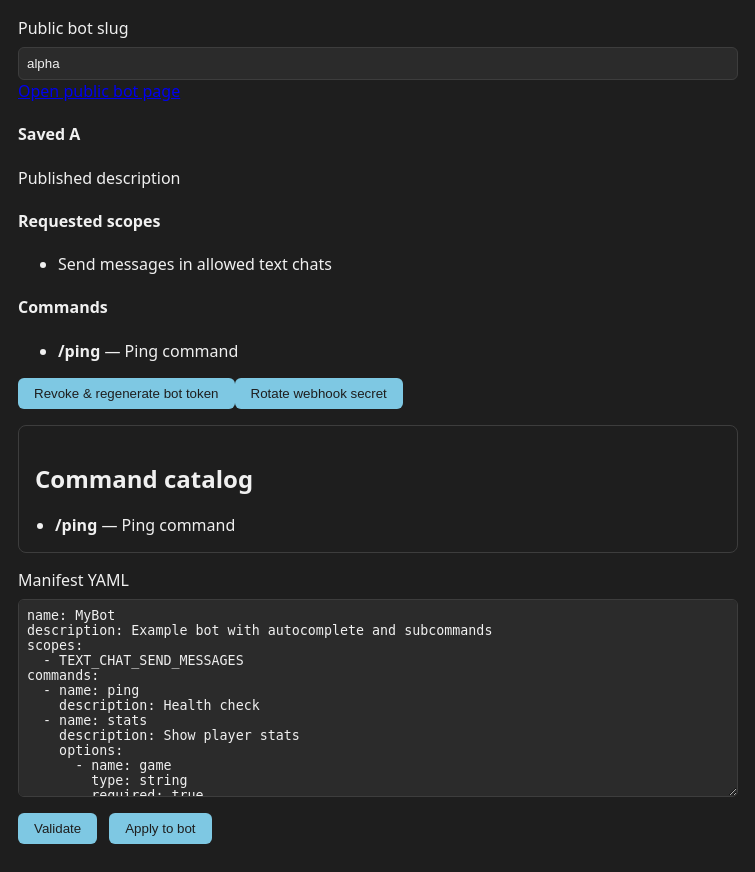
Scenario: saved public bot preview › ignores a late manifest detail refresh after selection
This screenshot has width=755, height=872.
(page scrolled)
Expected: the text "/ping" below "Commands" is shown, [58,340,100,362]
Click the button "Apply to bot": (160, 829) [109,813,212,844]
(page scrolled)
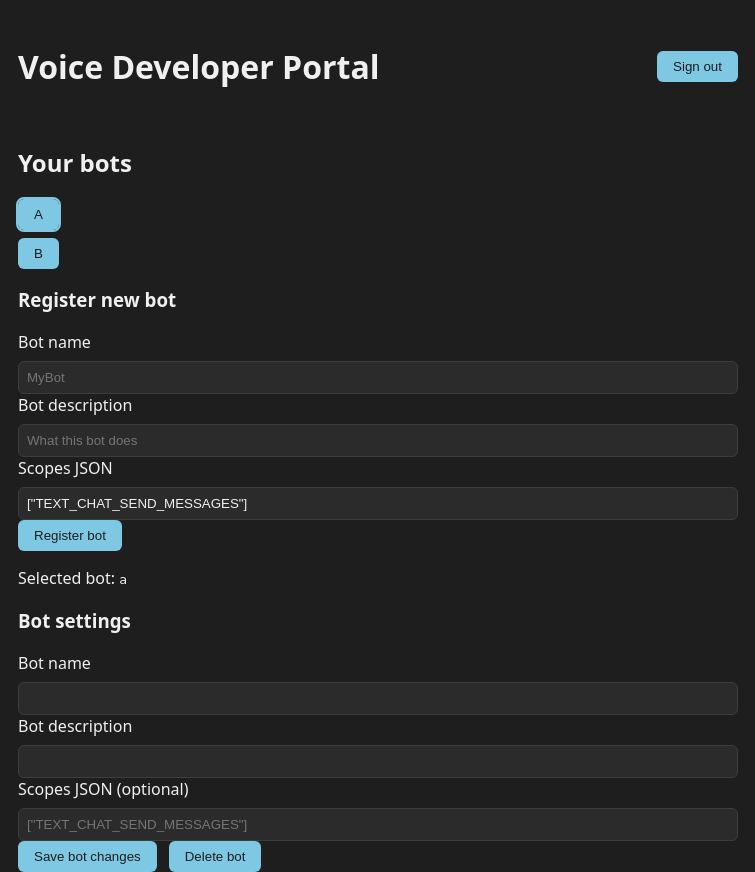
Click the button "B": (38, 253) [18,238,59,269]
(page scrolled)
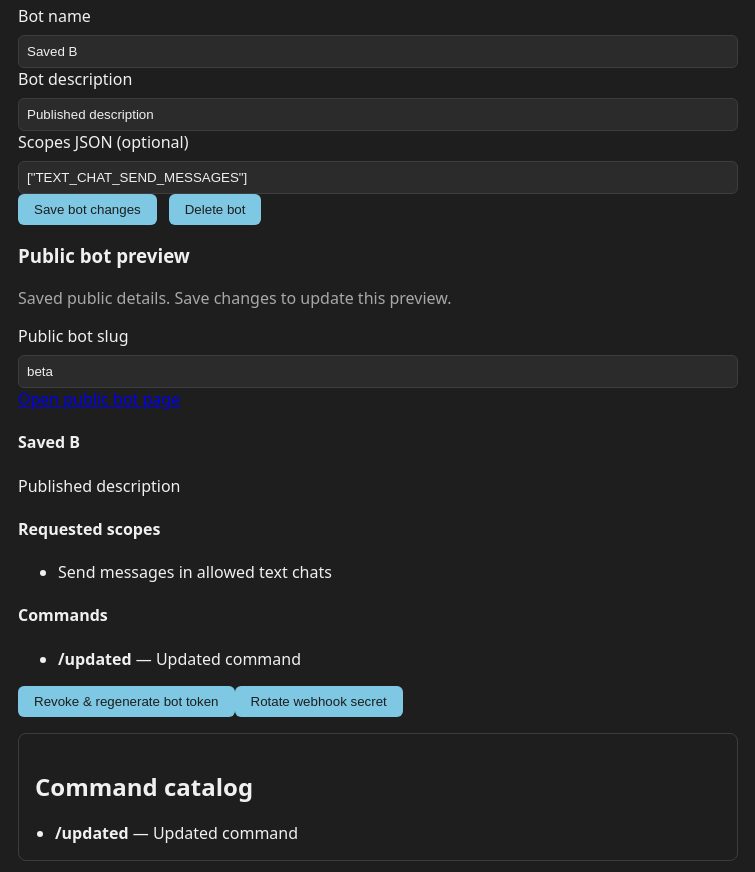
Now the heading "Saved B" is shown, box [18,431,80,453]
